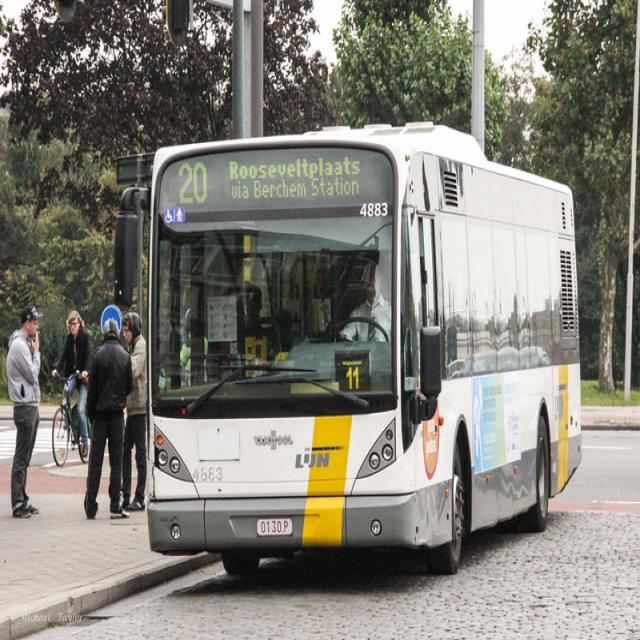bus-number: (176, 160, 210, 207)
